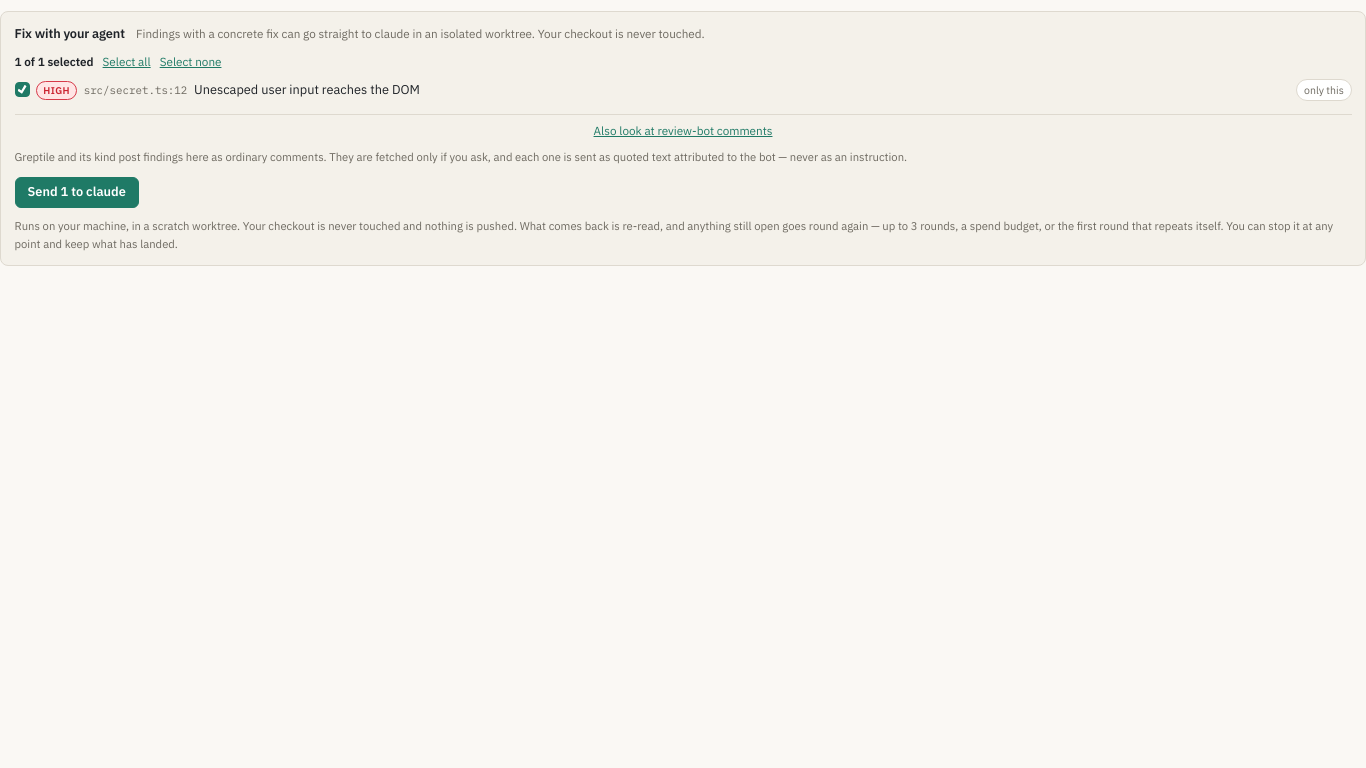
it: the bounded loop › stops after ONE round when the re-read leaves nothing open
Click the button with test id "agent-fix-send" at [77, 193], box [14,177,139,208]
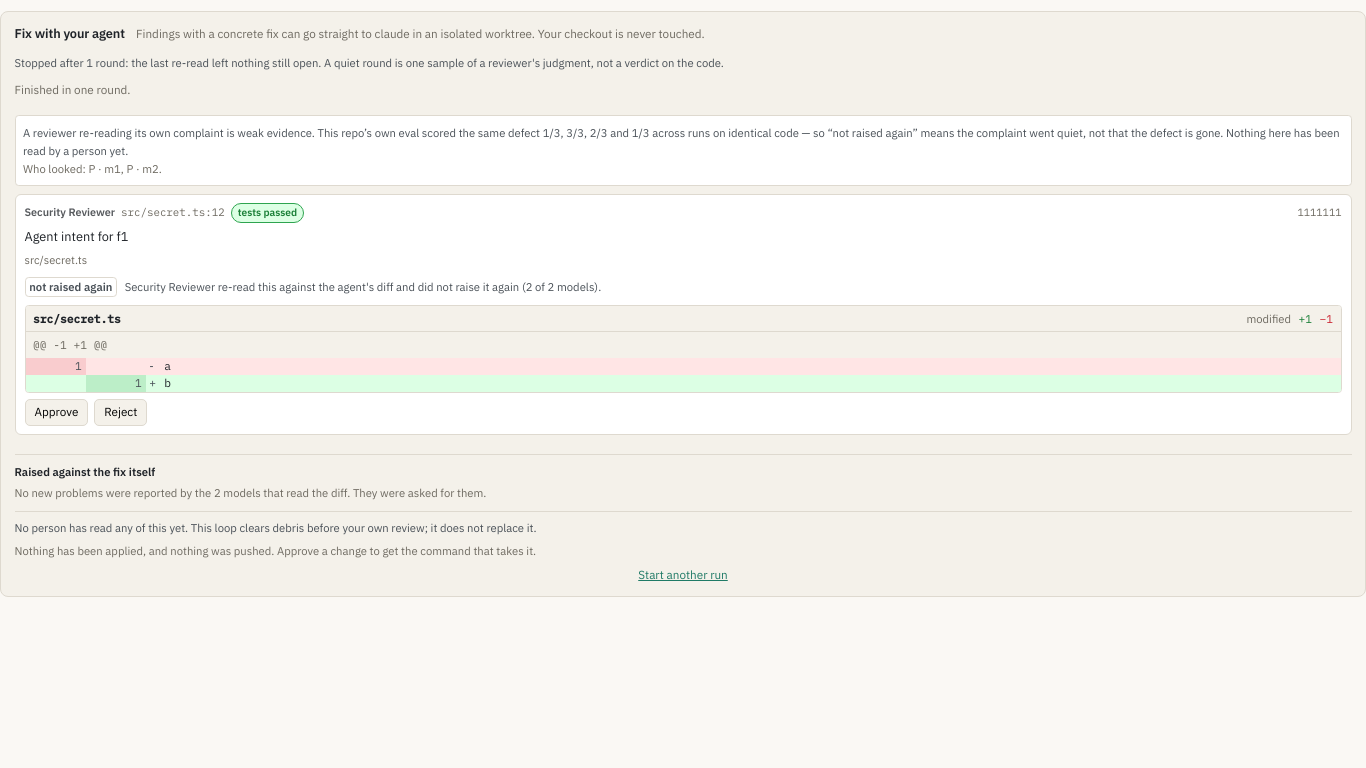
Expected: the text with test id "agent-fix-loop-stop" shows "sample", [14,55,724,70]
